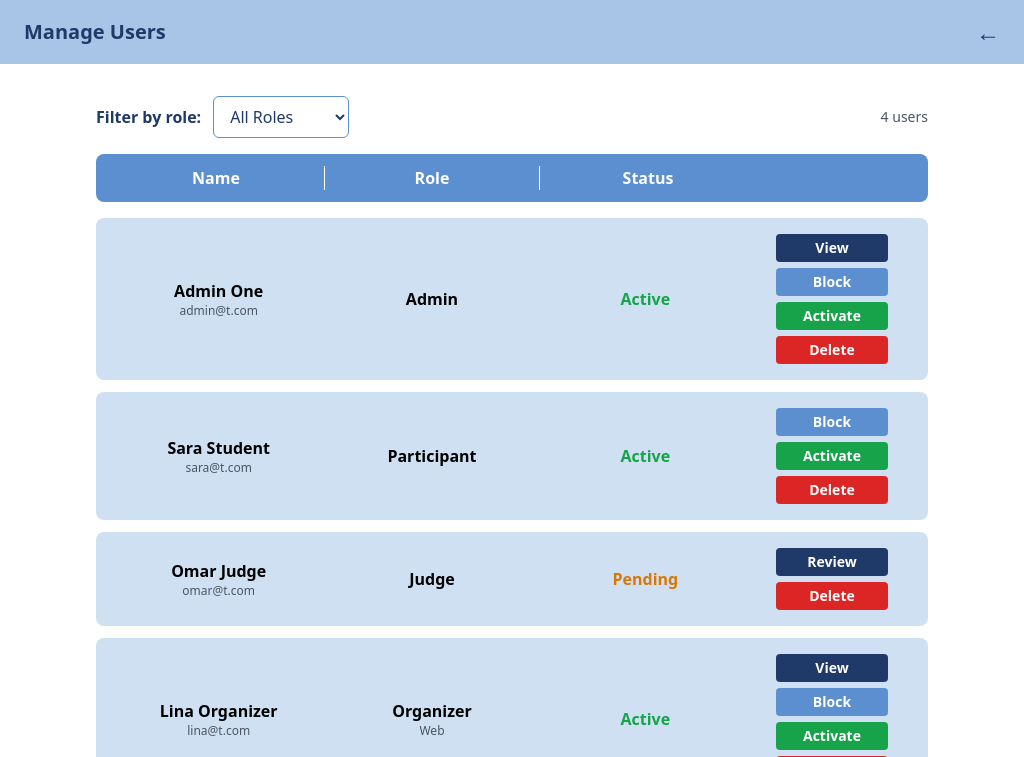
Test: Admin: approve / reject registrations › pending judge shows a Review button with Approve and Reject options
Expected: the text "Omar Judge" is shown, [171,560,266,582]
Click the button "Review" at (832, 562), box [776,548,888,576]
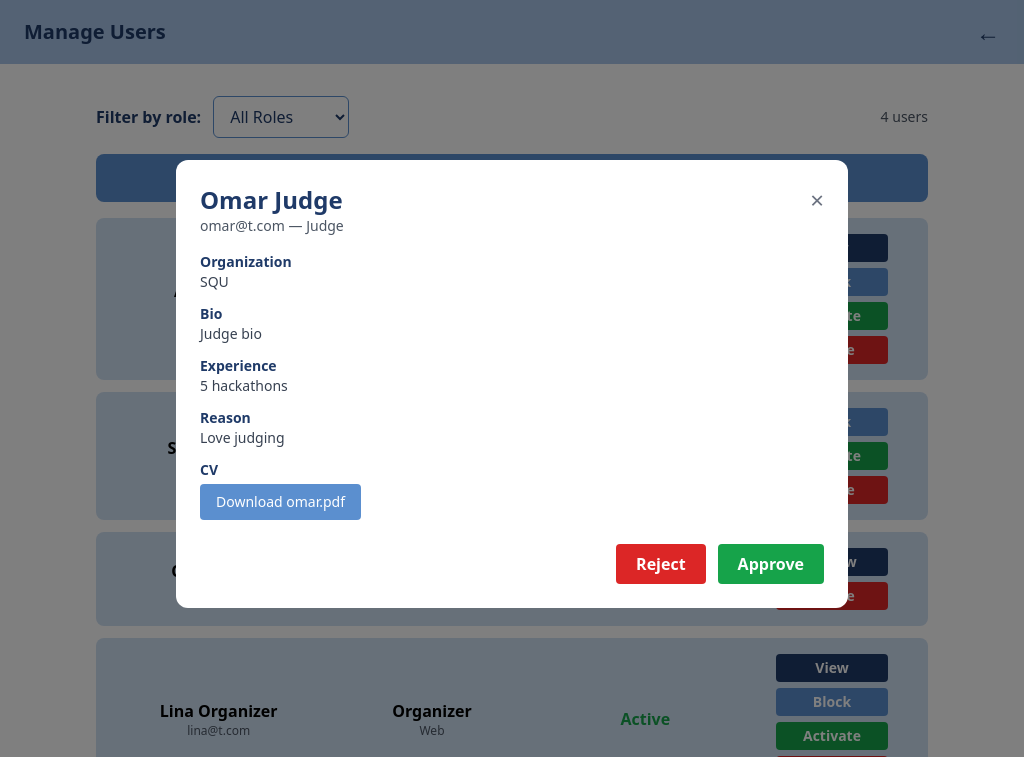
Result: the text "Judge bio" is shown at [200,324,262,343]
Result: the text "5 hackathons" is shown at [200,376,288,395]
Result: the button "Approve" is shown at [718,544,824,584]
